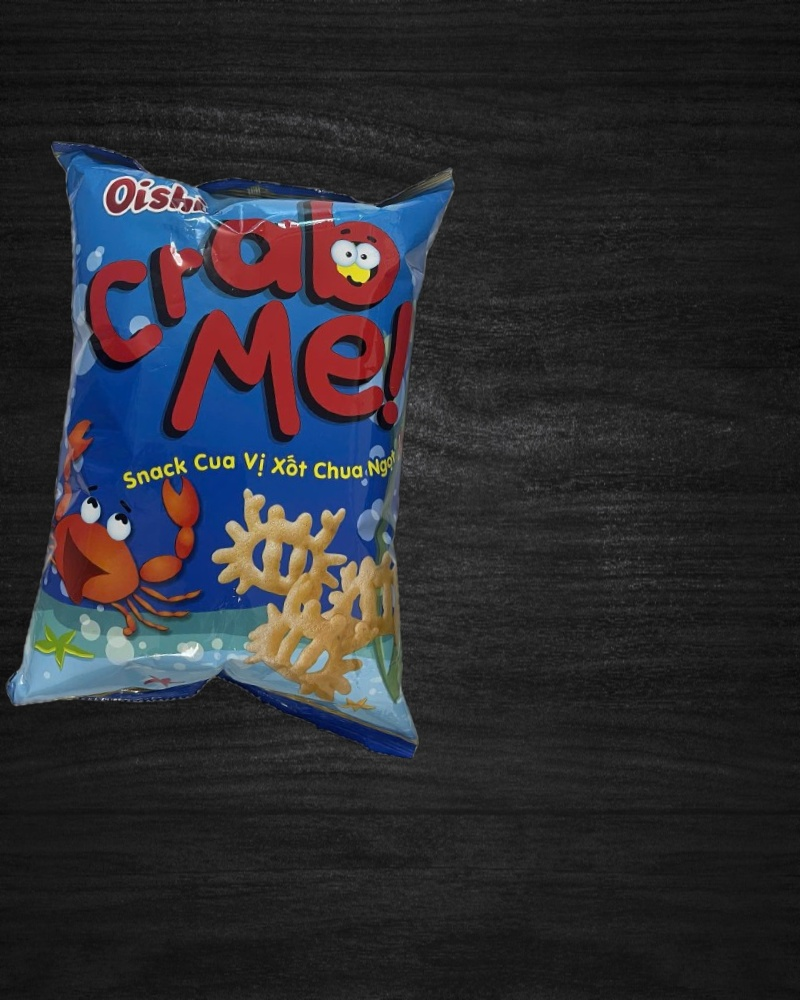Snack cua: (2, 133, 469, 754)
